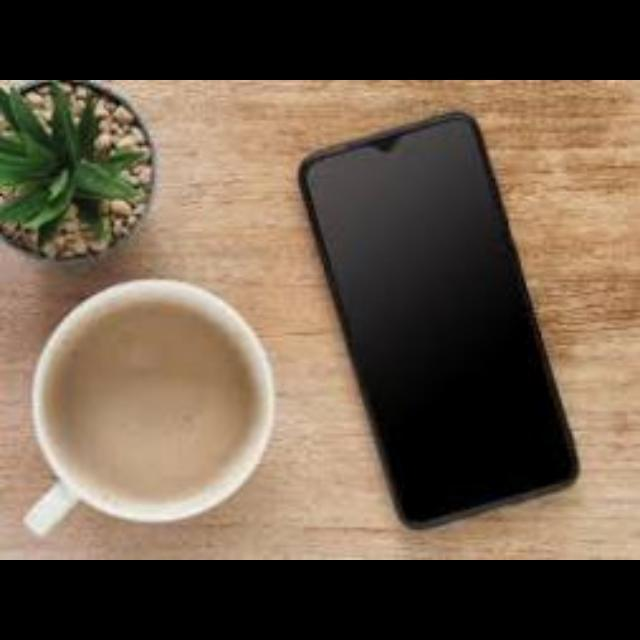PhoneUse: (300, 109, 580, 531)
